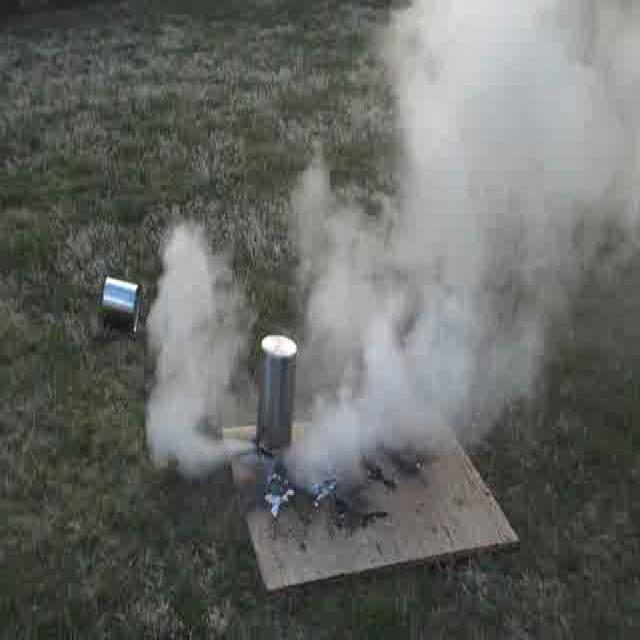Smoke: (304, 1, 640, 482), (150, 223, 246, 474)
